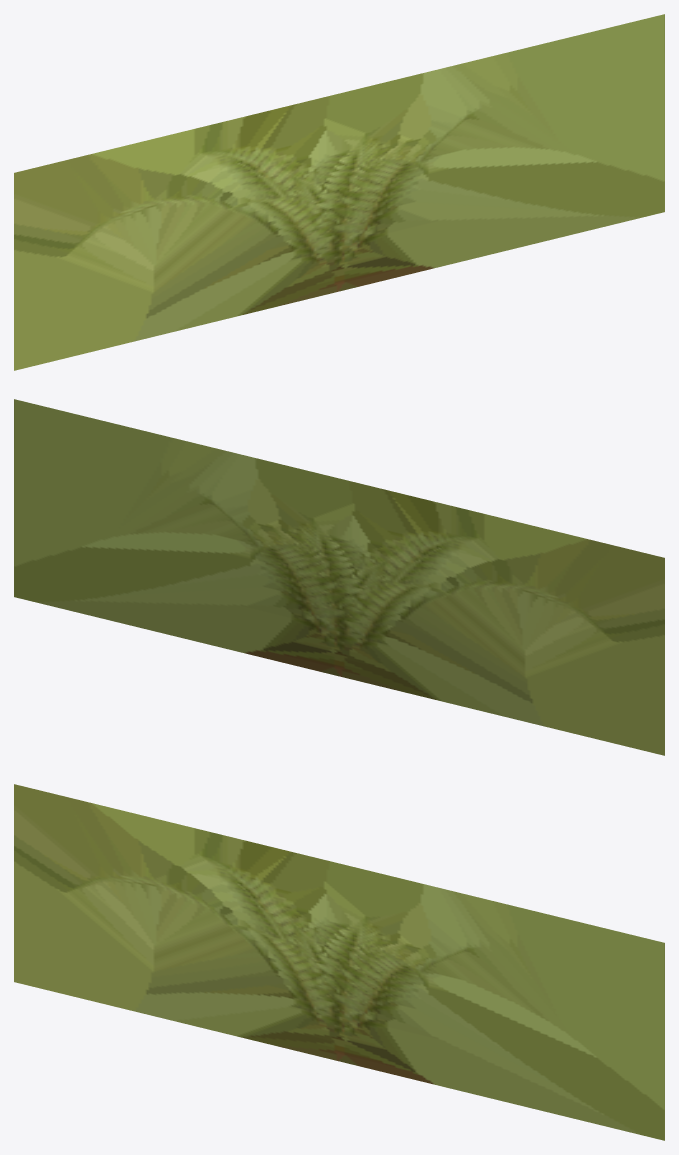
The model's file is fern_medium_b_lod4_billboard.gltf.
3 views of the same model, one above another, from view 1: azimuth 30°, elevation 25°; view 2: azimuth 150°, elevation 25°; view 3: azimuth 330°, elevation 25° (orthographic).
Parts seen in each view (by area): view 1: fern_medium_b_LOD4; view 2: fern_medium_b_LOD4; view 3: fern_medium_b_LOD4.
Part boxes in pixels (left/top/right/bottom): fern_medium_b_LOD4: left=14, top=14, right=664, bottom=370; fern_medium_b_LOD4: left=14, top=399, right=664, bottom=755; fern_medium_b_LOD4: left=14, top=784, right=664, bottom=1140.
Bounding box in the file's own units: 2.1 × 0.6108 × 0.
1 material, 1 textured.
